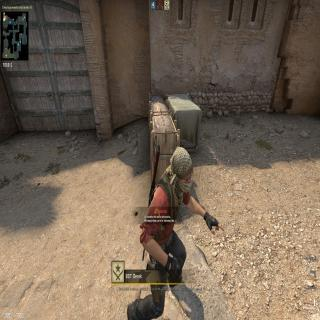T-Head: (169, 142, 194, 198)
